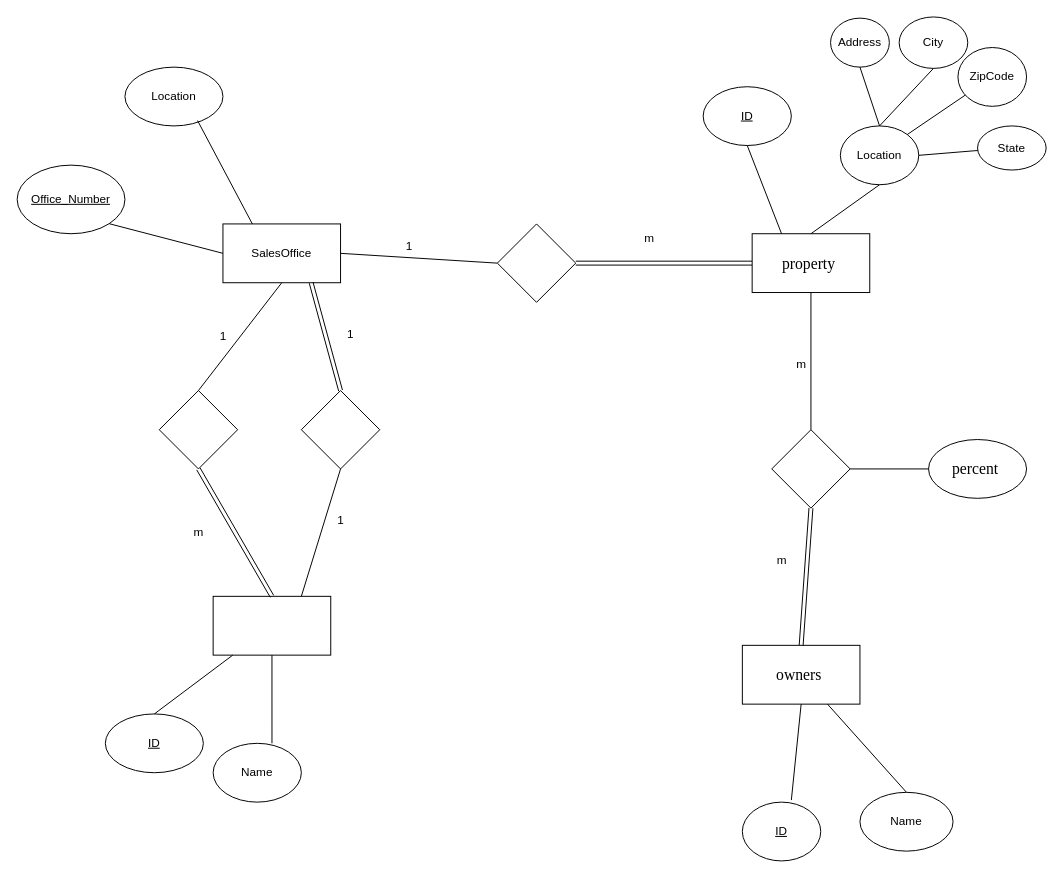
The diagram is 1063 pixels wide and 879 high, and some of its shapes have lost their labels. The shapes that lost their labels are listed below. From the top down, each one's box as (x1, y1, x2, y2) in pixels, then its label:
(496, 223, 576, 302): List
(158, 390, 238, 469): assigned
(300, 390, 380, 469): Manage
(771, 429, 850, 508): Have
(212, 595, 331, 655): Employee
